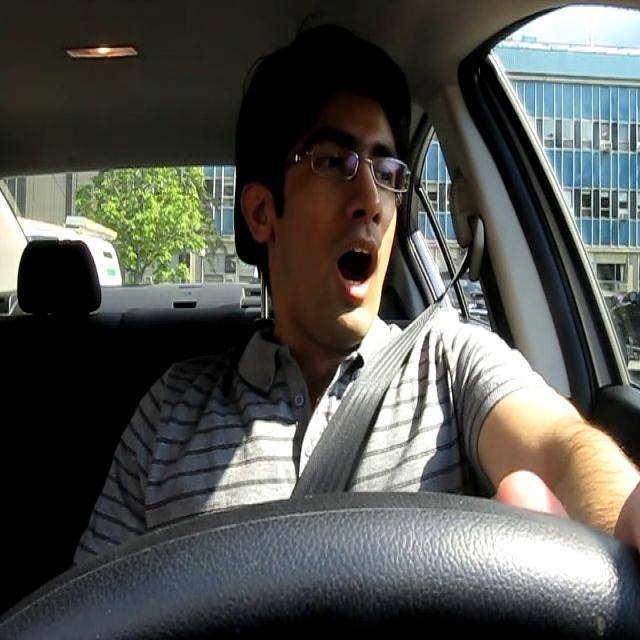open-mouth: (330, 234, 380, 304)
